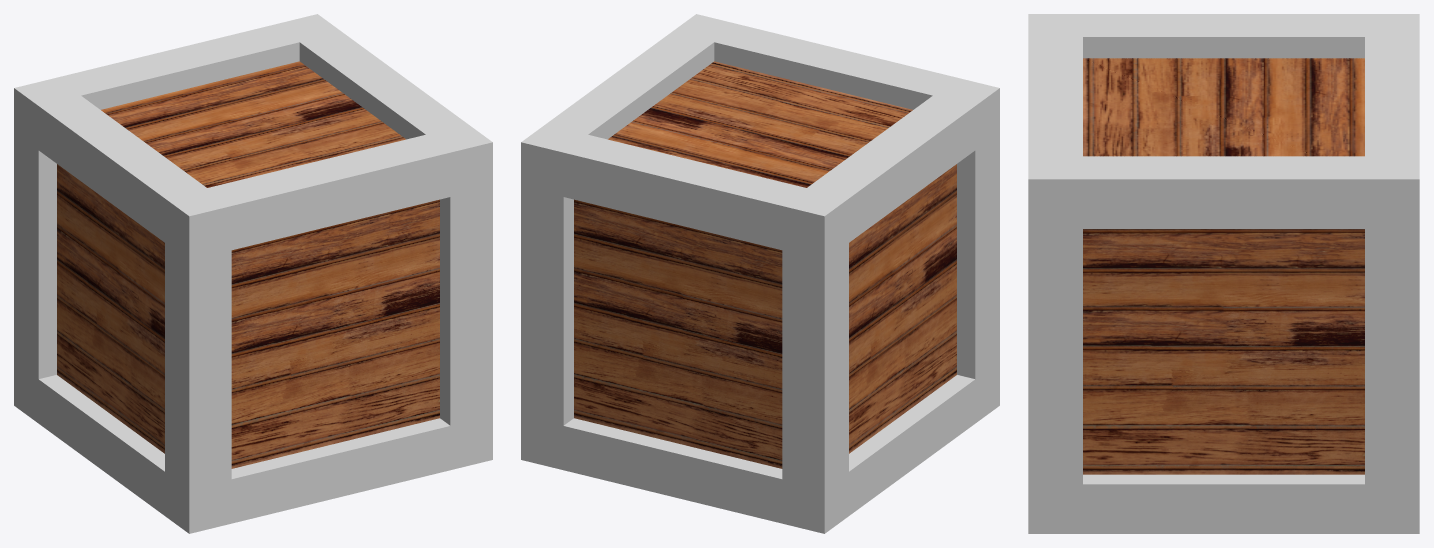
Rendered from crate.fbx.
3 renders of one model, left to right at view 1: azimuth 30°, elevation 25°; view 2: azimuth 150°, elevation 25°; view 3: azimuth 270°, elevation 25°, orthographic. The views are drawn at different scales.
Visible parts, largest first — view 1: Crate; view 2: Crate; view 3: Crate.
Part boxes in pixels (<box>): Crate: <box>14,14,492,533</box>; Crate: <box>521,14,999,533</box>; Crate: <box>1028,14,1419,533</box>.
Bounding box in the file's own units: 200 × 200 × 200.
